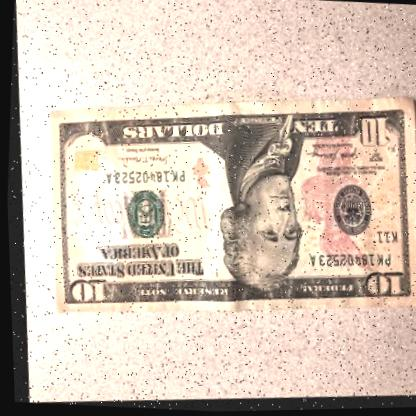dollar_front: (28, 76, 416, 342)
